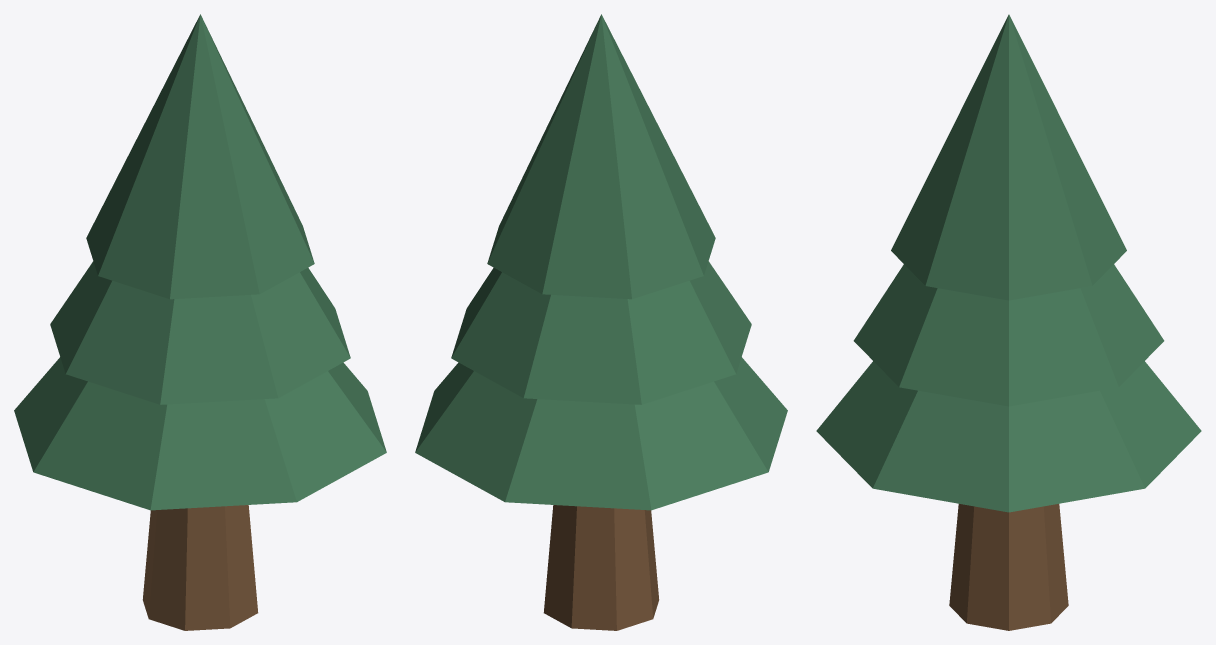
File: tree-0.glb
The picture shows the model from 3 angles, left to right: view 1: azimuth 30°, elevation 25°; view 2: azimuth 150°, elevation 25°; view 3: azimuth 270°, elevation 25°; orthographic projection.
Parts seen in each view (by area): view 1: Cone.001, Cone.003, Cone.002, Cone; view 2: Cone.001, Cone.003, Cone.002, Cone; view 3: Cone.001, Cone.003, Cone.002, Cone.
Part boxes in pixels (x1,y1,x2,y2): Cone.001: (14, 357, 386, 510); Cone.003: (86, 14, 314, 299); Cone.002: (50, 261, 350, 404); Cone: (142, 505, 258, 630); Cone.001: (415, 357, 787, 510); Cone.003: (487, 14, 715, 299); Cone.002: (451, 261, 751, 404); Cone: (543, 505, 659, 630); Cone.001: (816, 361, 1201, 512); Cone.003: (891, 14, 1126, 300); Cone.002: (853, 264, 1164, 406); Cone: (949, 504, 1068, 630).
Bounding box in the file's own units: 3.1 × 5.25 × 3.1.
